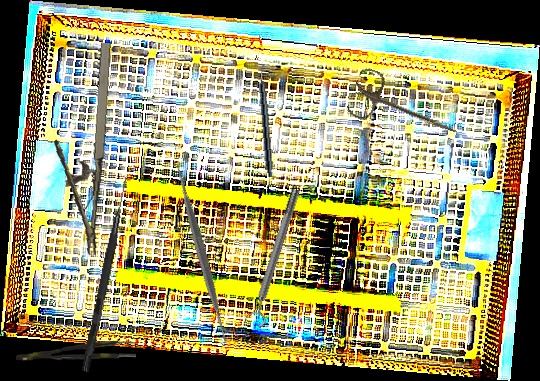Fixation Ring: (242, 186, 308, 329)
Handpiece: (256, 64, 276, 178)
Hook Surgical: (81, 175, 130, 373)
Iris Scissors: (344, 65, 467, 154)
Needle Holder: (43, 38, 118, 256)
Spatula Surgical: (104, 157, 299, 351)
Tissue Forceps: (15, 339, 137, 363)
